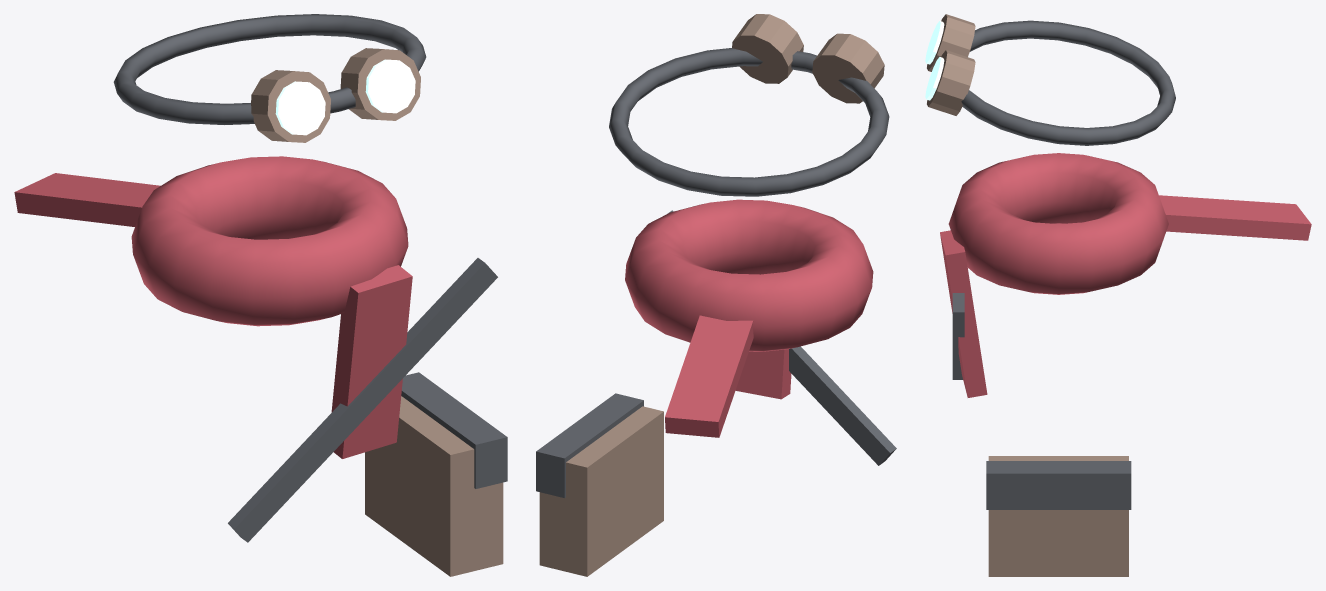
File: TricksterGear.fbx
The picture shows the model from 3 angles, left to right: view 1: azimuth 30°, elevation 25°; view 2: azimuth 150°, elevation 25°; view 3: azimuth 270°, elevation 25°; orthographic projection. The views are drawn at different scales.
Parts seen in each view (by area): view 1: TricksterGear; view 2: TricksterGear; view 3: TricksterGear.
Part boxes in pixels (left/top/right/bottom): TricksterGear: left=14, top=14, right=507, bottom=576; TricksterGear: left=536, top=14, right=896, bottom=576; TricksterGear: left=925, top=14, right=1311, bottom=576.
Size of the model in its own units: 0.628 by 1.03 by 0.7717.
